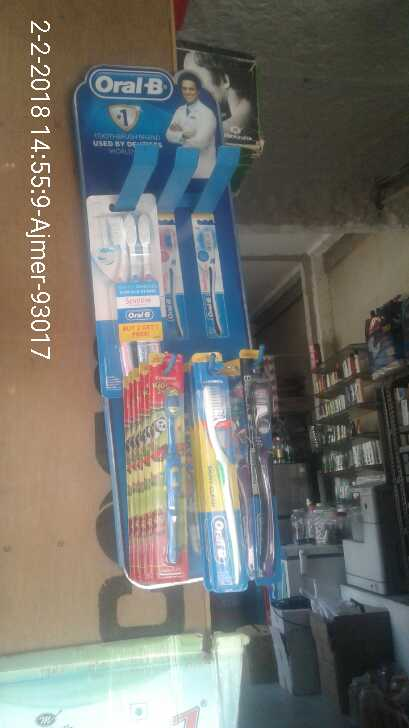oralb: (194, 353, 253, 590), (85, 189, 155, 364), (244, 359, 276, 559)
